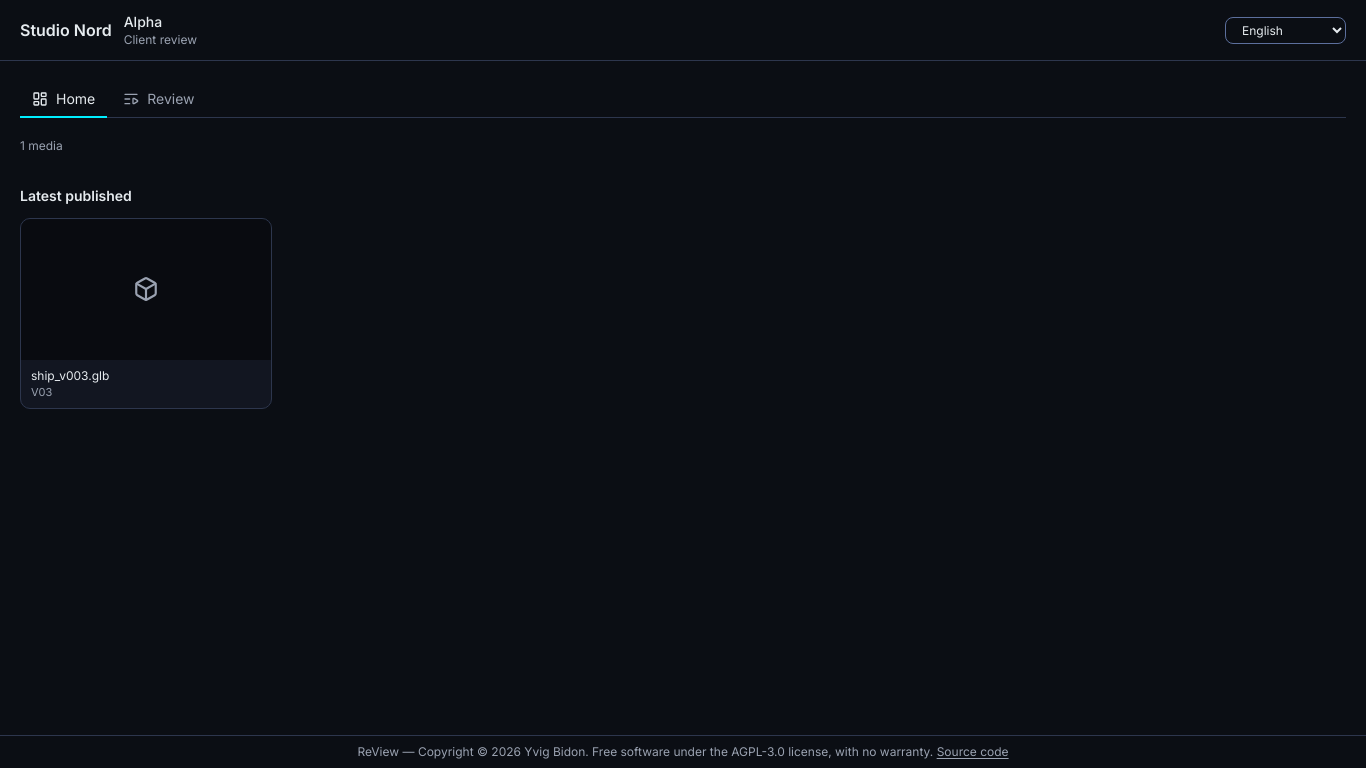
Test case: ClientSharePage › tells the visitor, in plain words, that a media cannot be opened here
Click the button "ship_v003.glb V03": (146, 313) [20,218,272,409]
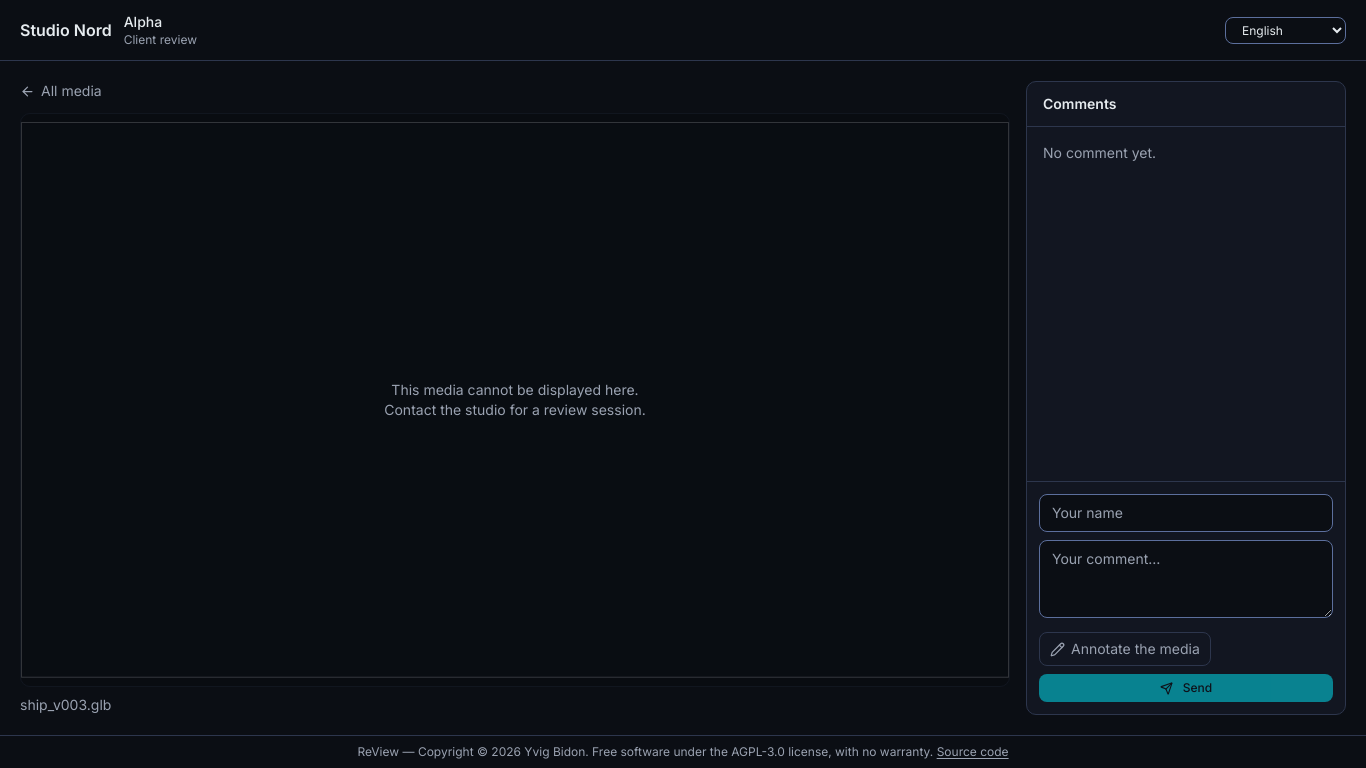
Expected: the element that starts with "This media cannot be displayed here." shows "Contact the studio for a review session.", [384,401,646,418]
